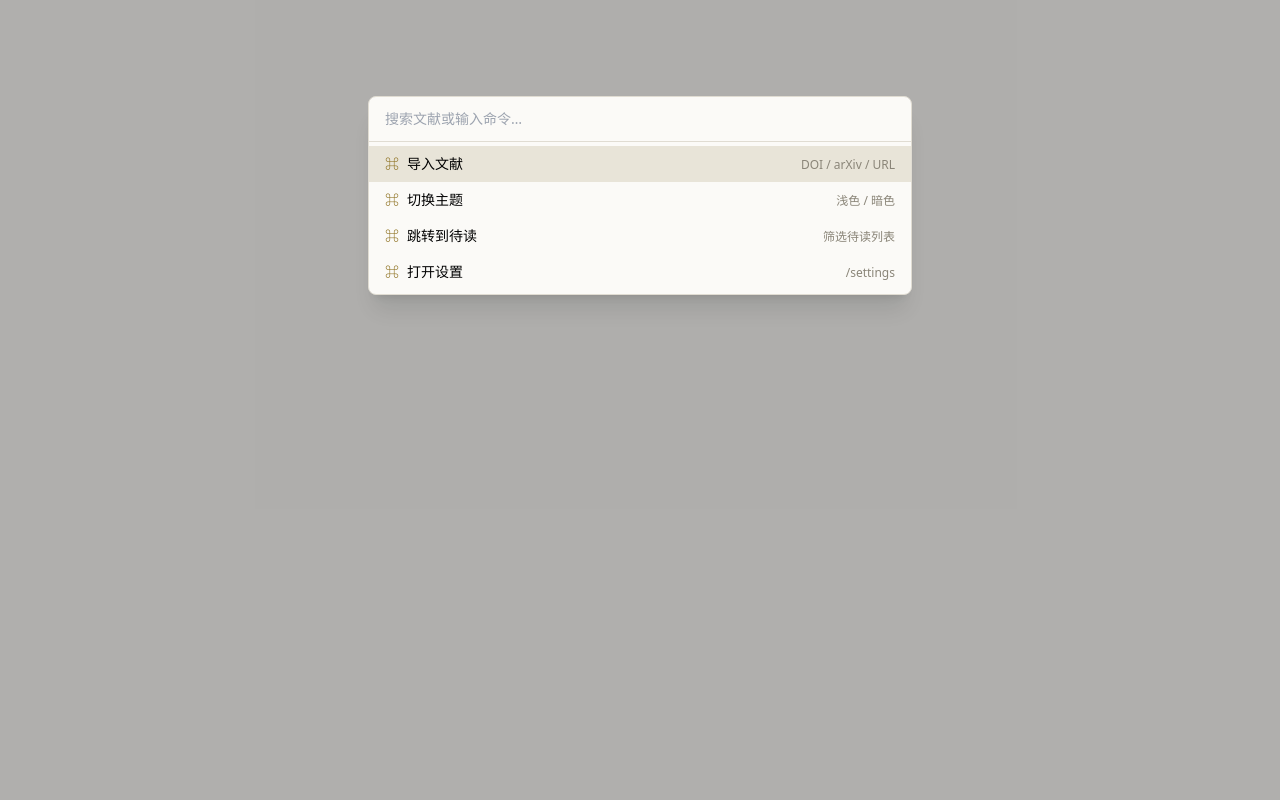
Test case: ⌘K 命令面板 › 输入关键词后展示搜索结果
This screenshot has width=1280, height=800.
Step 1. Type "attention" into the field named "命令面板输入" → (640, 120), box [369,97,911,142]
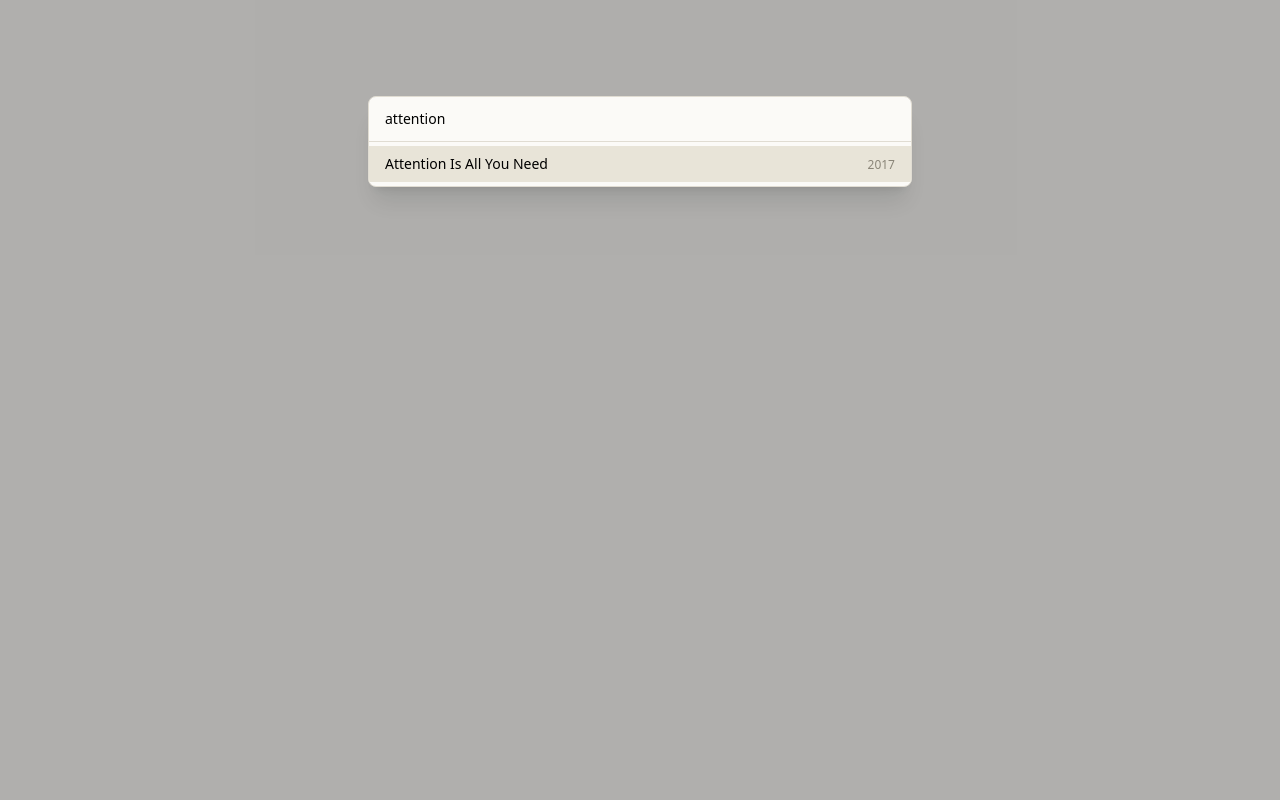
Expected: the text "Attention Is All You Need" is shown, [385,154,548,174]
